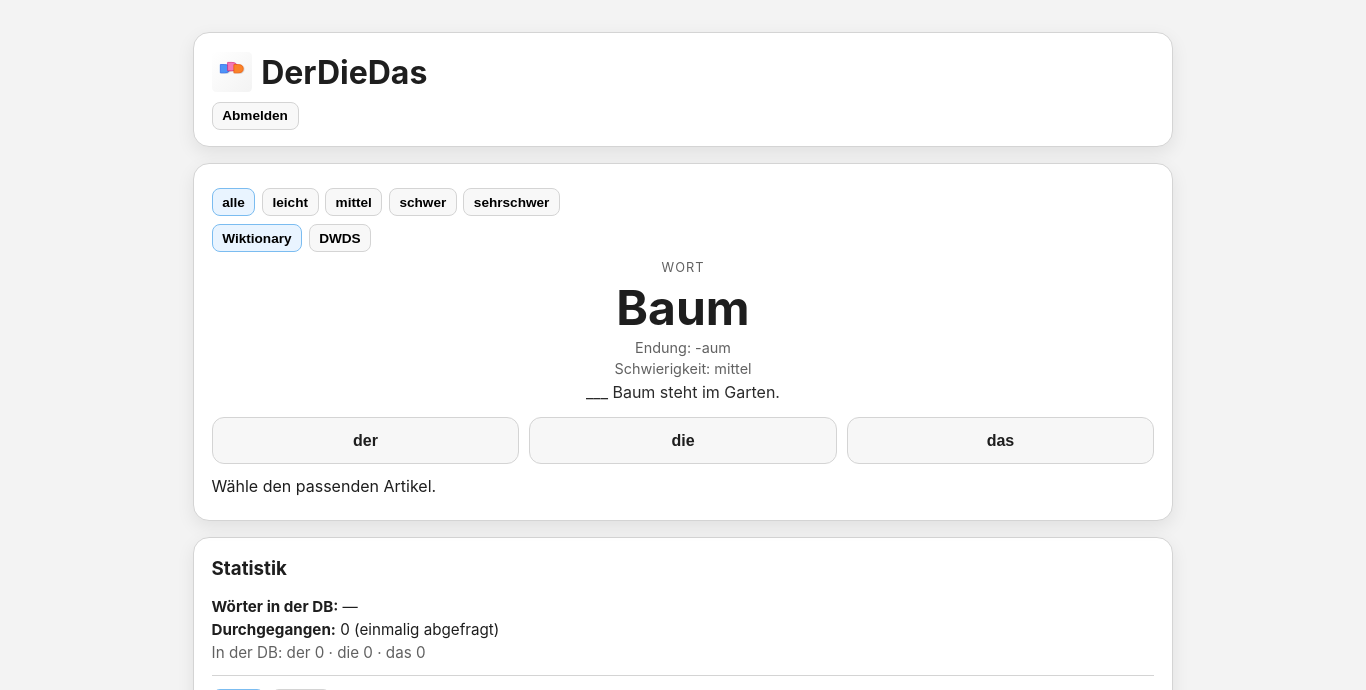
Test: App.vue › wechselt automatisch zum nächsten wort
Click the button "der".
click(366, 441)  # box [212,417,520,464]
Wait 2200 ms
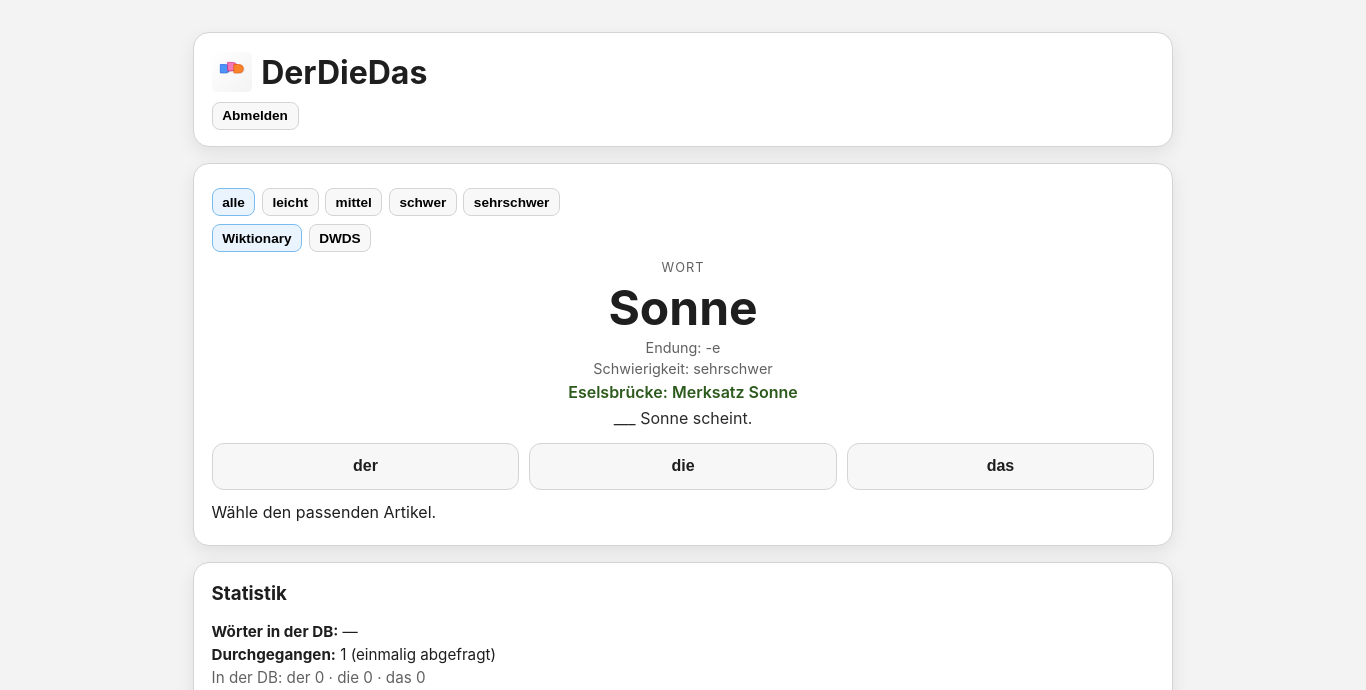
Expected: the heading with id "wordDisplay" no longer shows "Baum"
